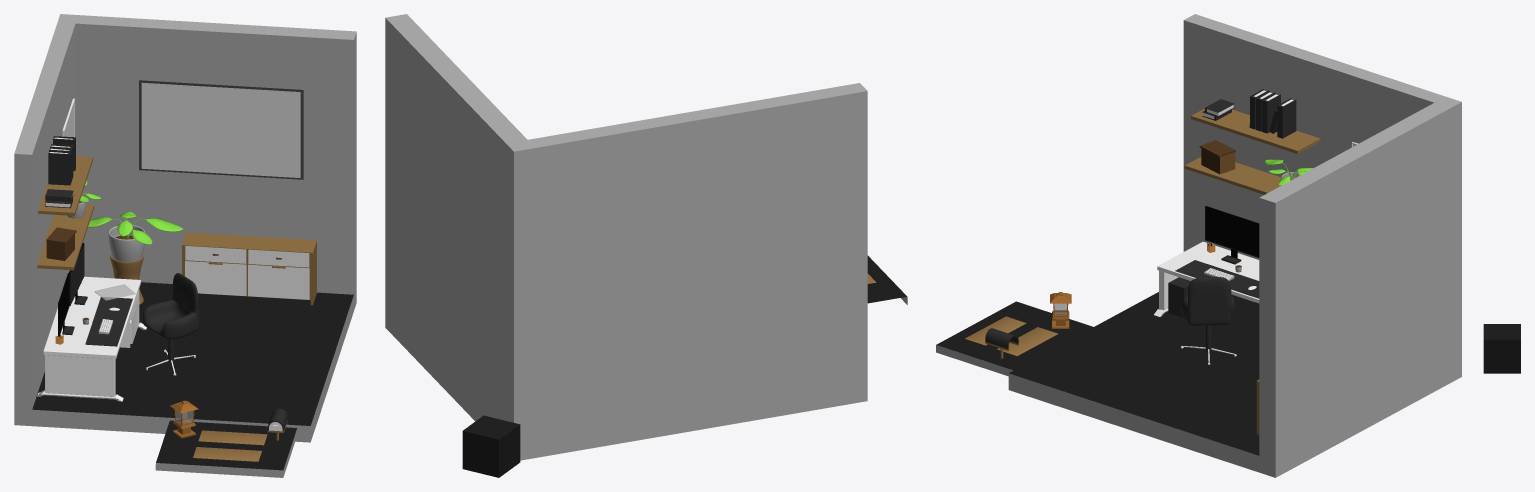
Rendered from finishadj.glb.
3 views of the same model, side by side, from view 1: azimuth 30°, elevation 25°; view 2: azimuth 150°, elevation 25°; view 3: azimuth 270°, elevation 25° (orthographic). The views are drawn at different scales.
Parts seen in each view (by area): view 1: body, Board, Desks, Shelves, Minifloor, Deskobj, Chair, Computers, floorsec, floorfirst, floor items, floorLamp (+1 smaller); view 2: body, Cube, Minifloor; view 3: body, Shelves, Minifloor, Desks, Chair, Computers, Cube, Deskobj, floor items, floorfirst, floorLamp, floorsec.
Part boxes in pixels (<box>): body: <box>14,14,356,442</box>; Board: <box>182,232,316,305</box>; Desks: <box>37,254,146,401</box>; Shelves: <box>37,136,101,270</box>; Minifloor: <box>155,420,297,477</box>; Deskobj: <box>55,212,182,346</box>; Chair: <box>143,273,199,339</box>; Computers: <box>58,243,87,336</box>; floorsec: <box>193,447,261,461</box>; floorfirst: <box>198,430,267,445</box>; floor items: <box>120,292,195,375</box>; floorLamp: <box>170,400,198,438</box>; body: <box>385,14,867,460</box>; Cube: <box>462,415,520,477</box>; Minifloor: <box>867,255,907,304</box>; body: <box>1008,14,1461,477</box>; Shelves: <box>1184,89,1320,194</box>; Minifloor: <box>936,301,1093,376</box>; Desks: <box>1154,241,1259,316</box>; Chair: <box>1181,277,1235,325</box>; Computers: <box>1205,206,1259,264</box>; Cube: <box>1483,324,1520,373</box>; Deskobj: <box>1175,242,1259,298</box>; floor items: <box>1168,277,1236,364</box>; floorfirst: <box>997,327,1058,355</box>; floorLamp: <box>1050,292,1071,328</box>; floorsec: <box>965,316,1026,345</box>.
Size of the model in its own units: 23.94 by 16.23 by 31.29.
